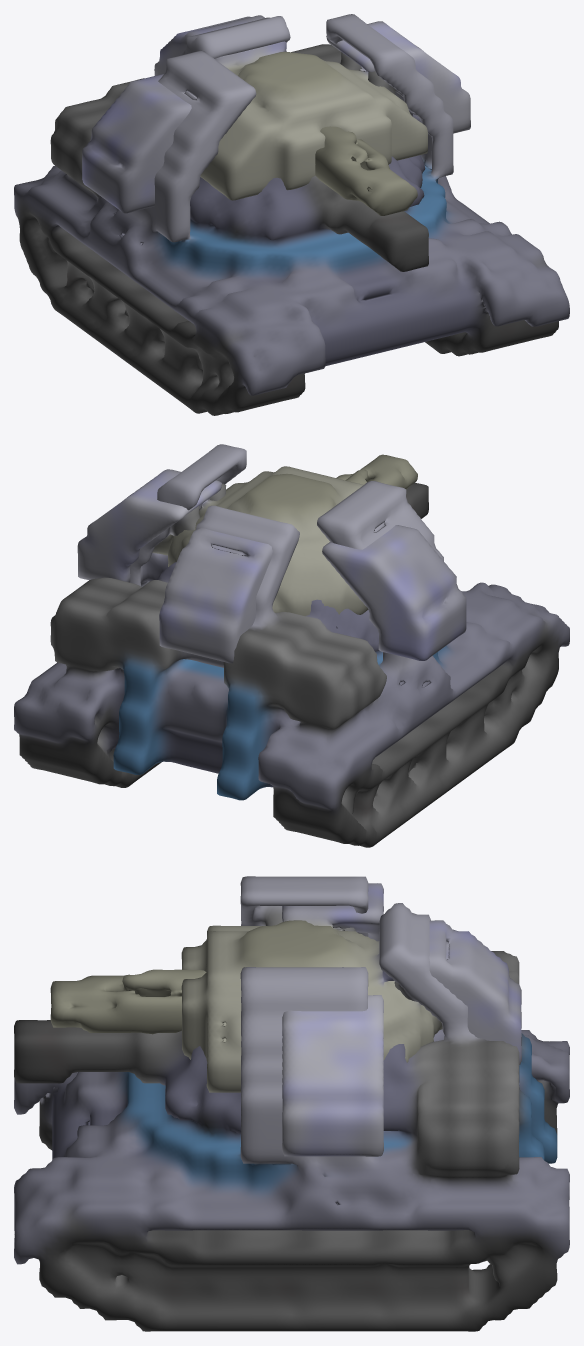
Rendered from mgtk.glb.
3 renders of one model, top to bottom at view 1: azimuth 30°, elevation 25°; view 2: azimuth 150°, elevation 25°; view 3: azimuth 270°, elevation 25°, orthographic. The views are drawn at different scales.
Visible parts, largest first — view 1: mgtk; view 2: mgtk; view 3: mgtk.
Part boxes in pixels (left/top/right/bottom): mgtk: left=14, top=14, right=569, bottom=415; mgtk: left=14, top=444, right=569, bottom=847; mgtk: left=14, top=876, right=569, bottom=1331.
Size of the model in its own units: 3.09 by 2.29 by 3.66.
